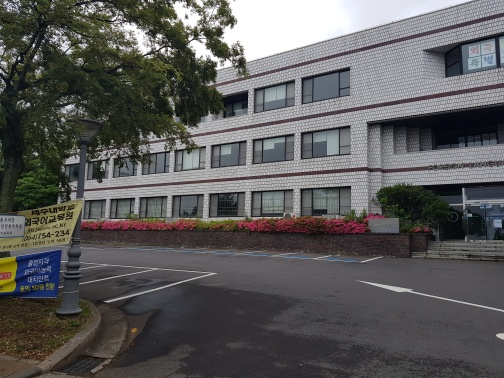Foreign Language Institute: (130, 6, 504, 266), (250, 125, 361, 164)
